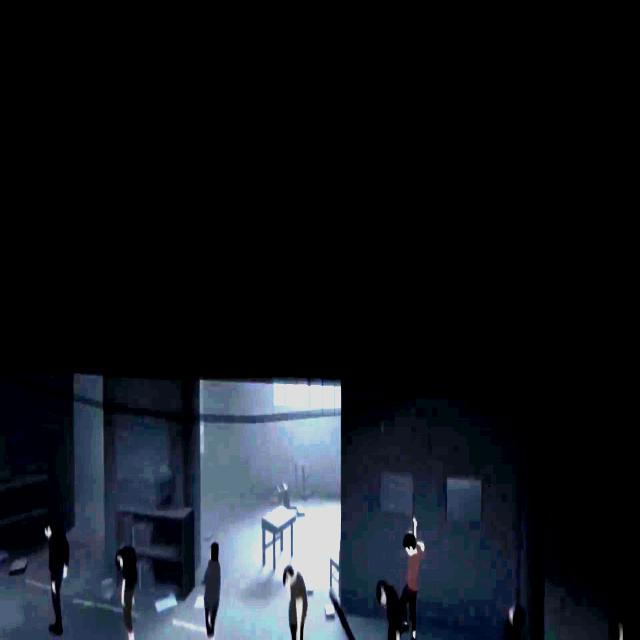boy: (382, 526, 424, 640)
zombie: (45, 520, 69, 634), (117, 548, 138, 640), (376, 580, 407, 640), (284, 566, 308, 640), (204, 541, 222, 638), (504, 600, 529, 640), (604, 615, 635, 640)
